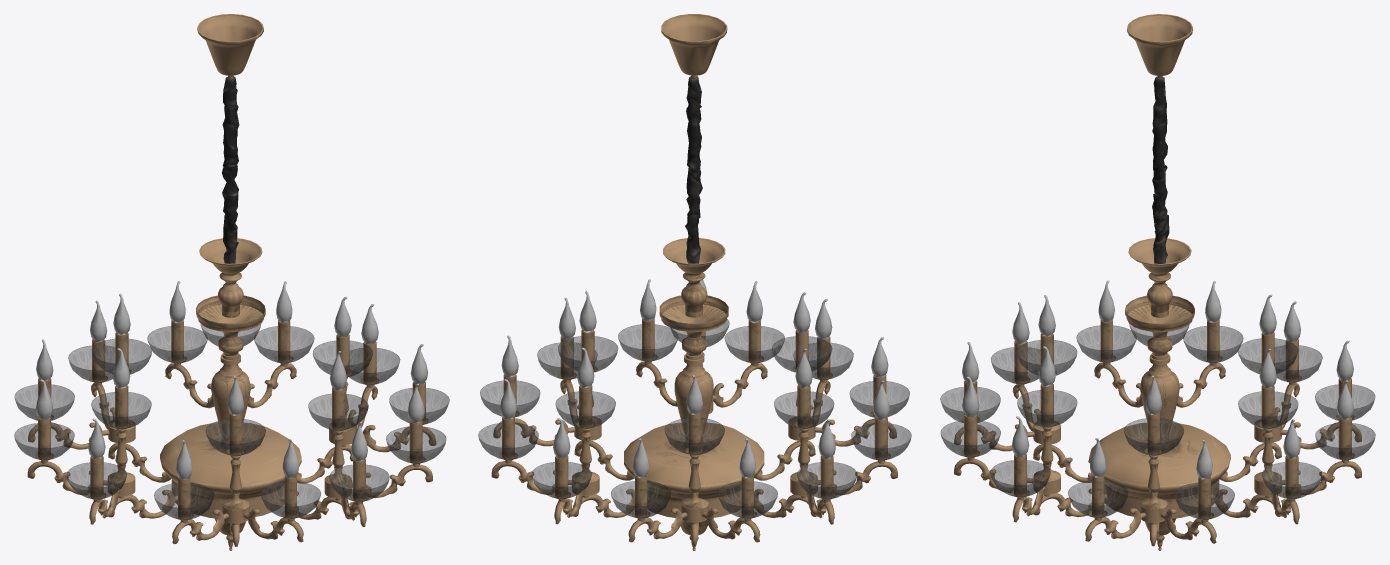
File: Chandelier_03.glb
The picture shows the model from 3 angles, left to right: view 1: azimuth 30°, elevation 25°; view 2: azimuth 150°, elevation 25°; view 3: azimuth 270°, elevation 25°; orthographic projection.
Parts seen in each view (by area): view 1: Chandelier_03; view 2: Chandelier_03; view 3: Chandelier_03.
Boxes of the visible parts, x1,y1,x2,y2 form: Chandelier_03: (14, 14, 449, 550); Chandelier_03: (478, 14, 911, 550); Chandelier_03: (940, 14, 1375, 550).
Size of the model in its own units: 0.7804 by 1.04 by 0.7854.
2 materials, 2 textured.
